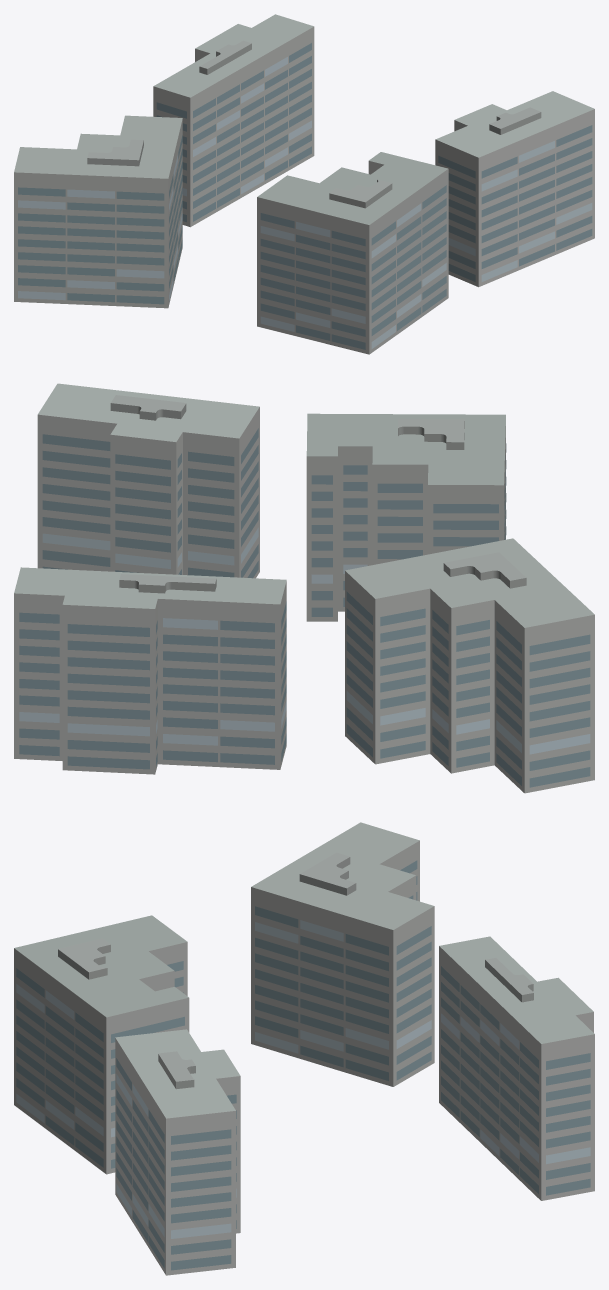
The model's file is apt-a10027638.glb.
3 renders of one model, top to bottom at view 1: azimuth 30°, elevation 25°; view 2: azimuth 150°, elevation 25°; view 3: azimuth 270°, elevation 25°, orthographic. The views are drawn at different scales.
Parts seen in each view (by area): view 1: apt-a10027638; view 2: apt-a10027638; view 3: apt-a10027638.
Part boxes in pixels (bbox=[...]): apt-a10027638: bbox=[14, 14, 594, 354]; apt-a10027638: bbox=[14, 383, 594, 793]; apt-a10027638: bbox=[14, 822, 594, 1275].
Size of the model in its own units: 116 by 30 by 96.08.
